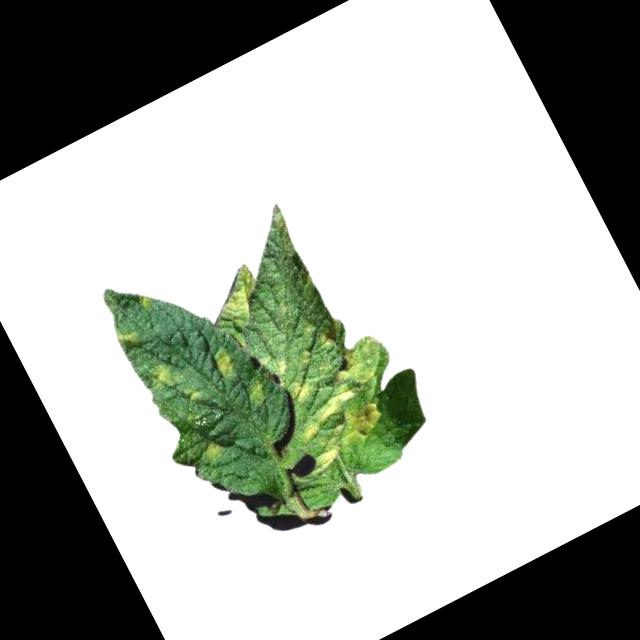Leaf_Mold: (311, 325, 389, 408), (205, 262, 271, 324), (332, 393, 389, 449), (203, 342, 243, 387), (239, 377, 273, 414), (147, 360, 179, 394), (309, 443, 343, 474), (196, 432, 227, 463), (285, 378, 313, 406)
